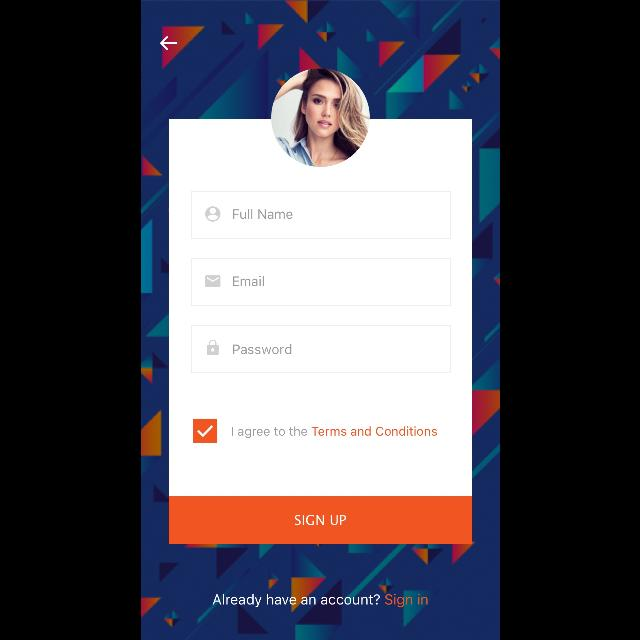backgroundimage: (140, 1, 500, 640)
checkbox: (192, 420, 215, 442)
icon: (204, 206, 220, 222), (160, 36, 177, 50), (204, 275, 220, 287), (206, 340, 218, 356)
image: (270, 69, 370, 167)
input: (190, 191, 452, 239), (190, 258, 452, 306), (190, 325, 452, 373)
text: (212, 594, 428, 608), (232, 426, 436, 438), (232, 209, 292, 219), (233, 344, 291, 354), (232, 276, 264, 286)
textbutton: (168, 496, 472, 544)
